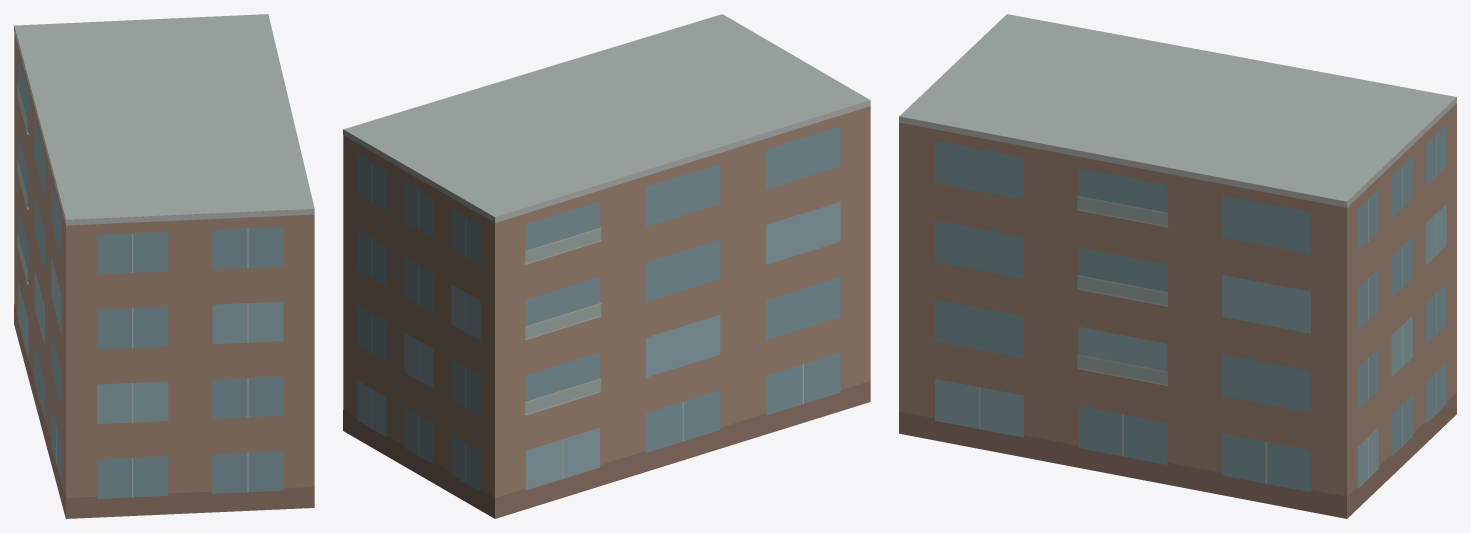
Rendered from survey-upis-32660621.glb.
3 views of the same model, side by side, from view 1: azimuth 30°, elevation 25°; view 2: azimuth 150°, elevation 25°; view 3: azimuth 270°, elevation 25° (orthographic). The views are drawn at different scales.
Parts seen in each view (by area): view 1: survey-upis-32660621.tmp; view 2: survey-upis-32660621.tmp; view 3: survey-upis-32660621.tmp.
Part boxes in pixels (box(x1,y1,x2,y2)): survey-upis-32660621.tmp: box(14, 14, 314, 518); survey-upis-32660621.tmp: box(343, 14, 870, 518); survey-upis-32660621.tmp: box(899, 14, 1456, 518).
Size of the model in its own units: 16.13 by 12.7 by 20.25.
